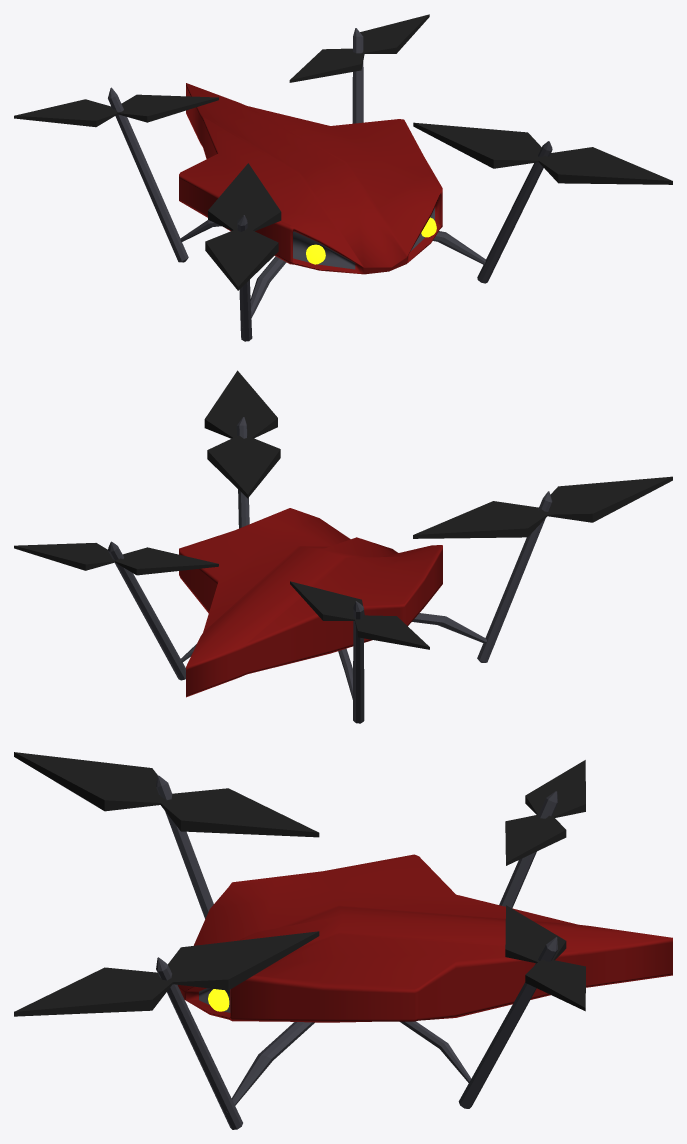
Rendered from Drone_02.fbx.
3 renders of one model, top to bottom at view 1: azimuth 30°, elevation 25°; view 2: azimuth 150°, elevation 25°; view 3: azimuth 270°, elevation 25°, orthographic. The views are drawn at different scales.
Visible parts, largest first — view 1: Body, Helice_F_L, Helice_F_R, Helice_BR, Helice__B_L, Leg_02_B_R, Leg_01_FL, Leg_02_B-L, Leg_02_F_R, Front_Leg_R, Front_Leg_R.001; view 2: Body, Helice_F_R, Helice_F_L, Helice__B_L, Helice_BR, Leg_02_F_R, Leg_02_B-L, Leg_02_B_R, Front_Leg_R, Leg_01_FL; view 3: Body, Helice_F_L, Helice_F_R, Helice__B_L, Helice_BR, Leg_01_FL, Leg_02_B-L, Leg_02_F_R, Front_Leg_R.001, Leg_02_B_R, Back:Leg_R.001.
Boxes of the visible parts, left/top/right/bottom form: Body: left=179, top=83, right=442, bottom=274; Helice_F_L: left=413, top=122, right=672, bottom=184; Helice_F_R: left=205, top=163, right=281, bottom=290; Helice_BR: left=14, top=94, right=218, bottom=127; Helice__B_L: left=289, top=14, right=429, bottom=82; Leg_02_B_R: left=108, top=87, right=188, bottom=262; Leg_01_FL: left=477, top=141, right=552, bottom=283; Leg_02_B-L: left=352, top=28, right=363, bottom=123; Leg_02_F_R: left=237, top=215, right=252, bottom=341; Front_Leg_R: left=242, top=256, right=286, bottom=327; Front_Leg_R.001: left=433, top=231, right=485, bottom=264; Body: left=179, top=508, right=442, bottom=697; Helice_F_R: left=413, top=476, right=672, bottom=538; Helice_F_L: left=204, top=370, right=280, bottom=498; Helice__B_L: left=14, top=543, right=218, bottom=575; Helice_BR: left=290, top=581, right=429, bottom=649; Leg_02_F_R: left=477, top=491, right=552, bottom=662; Leg_02_B-L: left=108, top=541, right=185, bottom=680; Leg_02_B_R: left=353, top=601, right=364, bottom=723; Front_Leg_R: left=412, top=613, right=494, bottom=644; Leg_01_FL: left=236, top=417, right=249, bottom=528; Body: left=177, top=854, right=672, bottom=1022; Helice_F_L: left=14, top=931, right=319, bottom=1016; Helice_F_R: left=14, top=752, right=319, bottom=837; Helice__B_L: left=505, top=905, right=585, bottom=1011; Helice_BR: left=505, top=760, right=585, bottom=865; Leg_01_FL: left=156, top=957, right=242, bottom=1129; Leg_02_B-L: left=458, top=937, right=557, bottom=1108; Leg_02_F_R: left=156, top=775, right=213, bottom=918; Front_Leg_R.001: left=226, top=1022, right=314, bottom=1112; Leg_02_B_R: left=499, top=791, right=557, bottom=908; Back:Leg_R.001: left=400, top=1021, right=471, bottom=1082.
Bounding box in the file's own units: 576 × 200 × 618.
